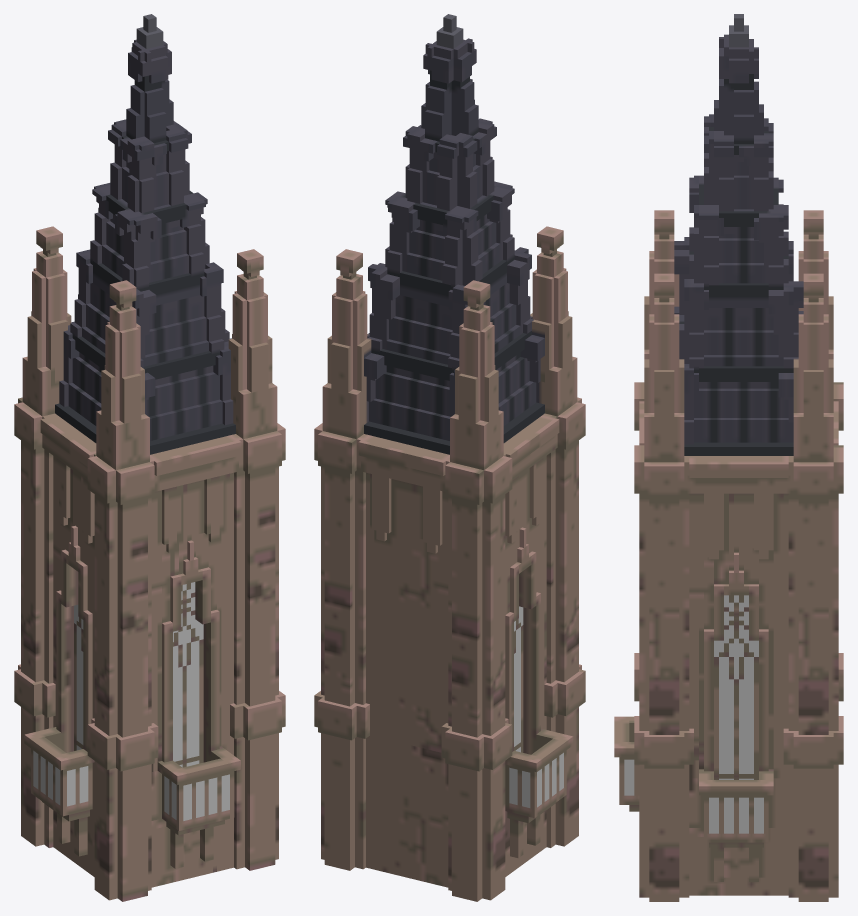
The model's file is Tower-4.fbx.
3 views of the same model, side by side, from view 1: azimuth 30°, elevation 25°; view 2: azimuth 150°, elevation 25°; view 3: azimuth 270°, elevation 25° (orthographic).
Parts seen in each view (by area): view 1: Tower-4; view 2: Tower-4; view 3: Tower-4.
Boxes of the visible parts, bbox=[...] form: Tower-4: bbox=[14, 14, 285, 901]; Tower-4: bbox=[314, 14, 585, 901]; Tower-4: bbox=[614, 14, 843, 901].
Size of the model in its own units: 250 by 935 by 230.
